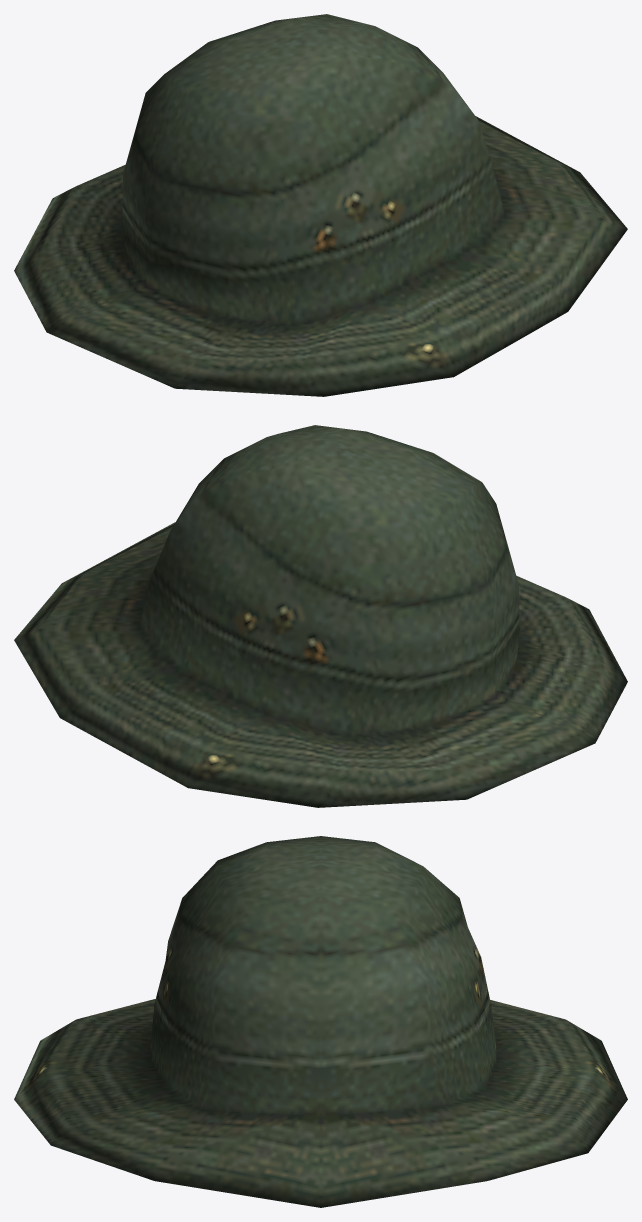
Rendered from hat_0400057.FBX.
The picture shows the model from 3 angles, top to bottom: view 1: azimuth 30°, elevation 25°; view 2: azimuth 150°, elevation 25°; view 3: azimuth 270°, elevation 25°; orthographic projection. The views are drawn at different scales.
Parts seen in each view (by area): view 1: hat_0400057; view 2: hat_0400057; view 3: hat_0400057.
Boxes of the visible parts, x1,y1,x2,y2 form: hat_0400057: (14, 14, 627, 396); hat_0400057: (14, 425, 627, 807); hat_0400057: (14, 836, 627, 1207).
Bounding box in the file's own units: 45.98 × 20.03 × 44.27.
